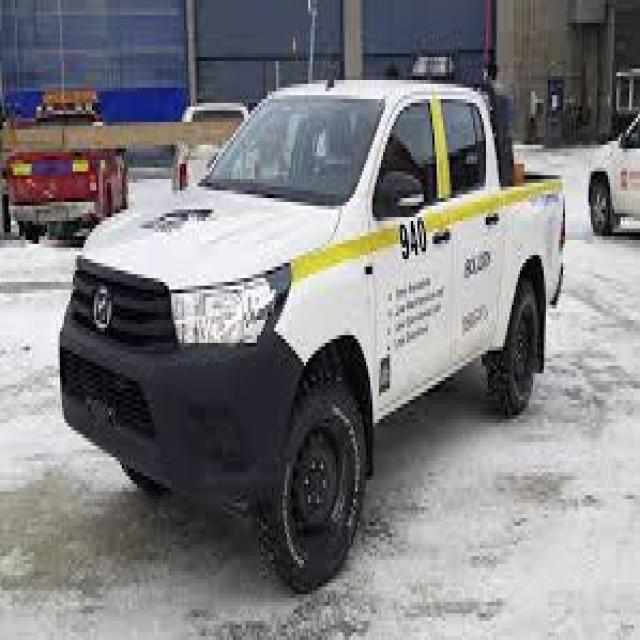light_vehicle: (53, 49, 576, 590)
